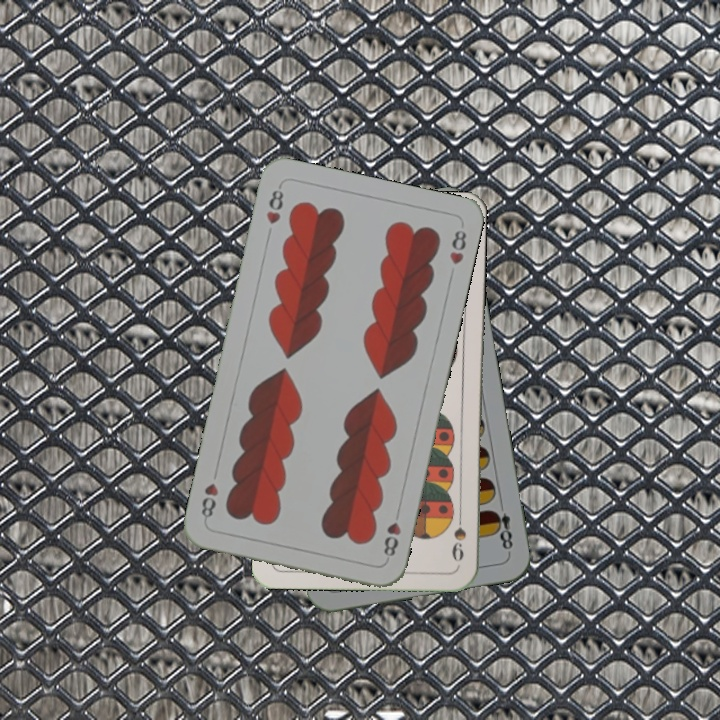E8: (488, 506, 515, 556)
H8: (262, 181, 286, 227), (379, 518, 404, 559)
S9: (448, 507, 469, 564)
